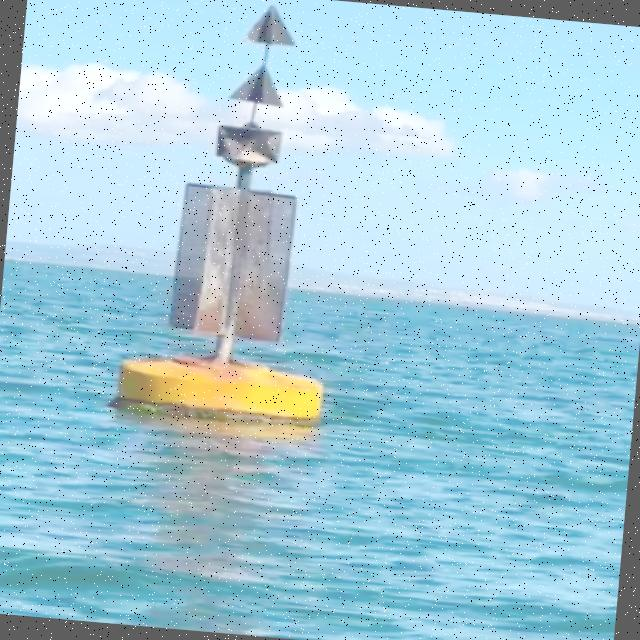marque: (98, 1, 369, 433)
